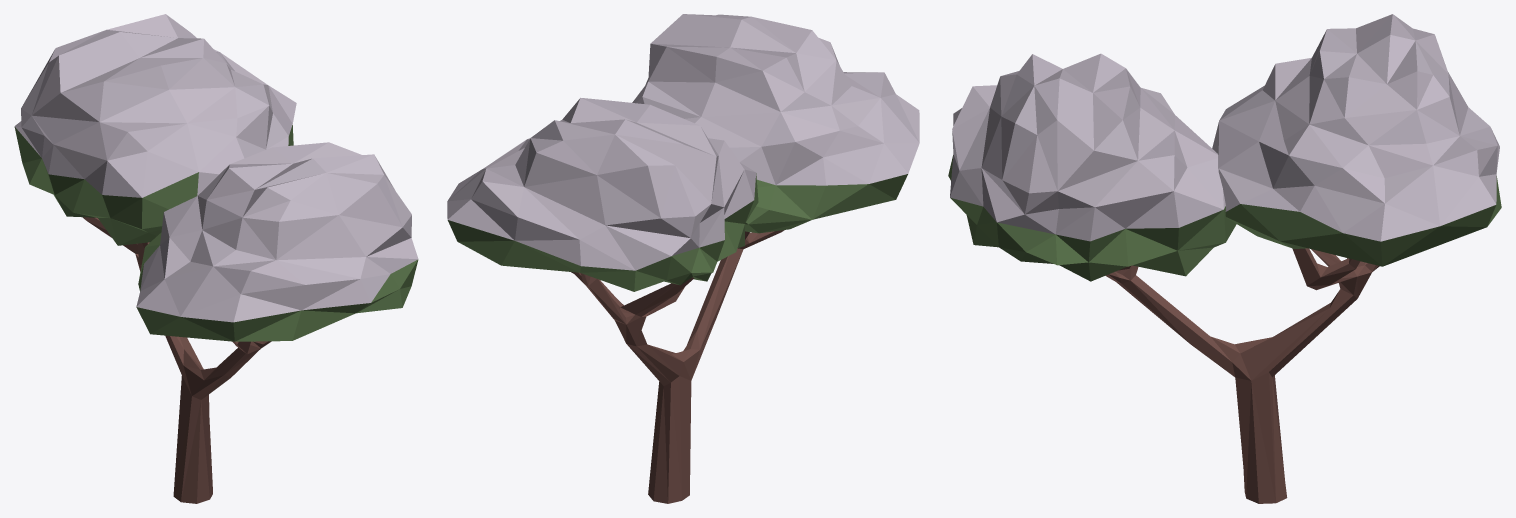
Rendered from CommonTree_Snow_1.lod2.glb.
The picture shows the model from 3 angles, left to right: view 1: azimuth 30°, elevation 25°; view 2: azimuth 150°, elevation 25°; view 3: azimuth 270°, elevation 25°; orthographic projection. The views are drawn at different scales.
Parts seen in each view (by area): view 1: CommonTree_Snow_1; view 2: CommonTree_Snow_1; view 3: CommonTree_Snow_1.
Part boxes in pixels (x1,y1,x2,y2): CommonTree_Snow_1: (14,14,418,503); CommonTree_Snow_1: (447,14,919,503); CommonTree_Snow_1: (948,14,1501,503).
Size of the model in its own units: 1.89 by 2.5 by 2.77.
